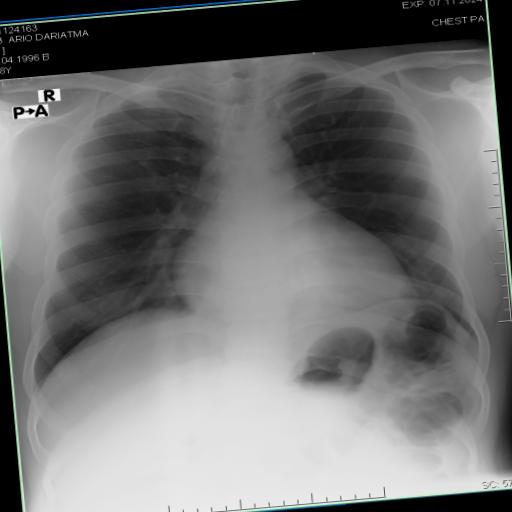kardiomegali: (0, 45, 497, 413)
